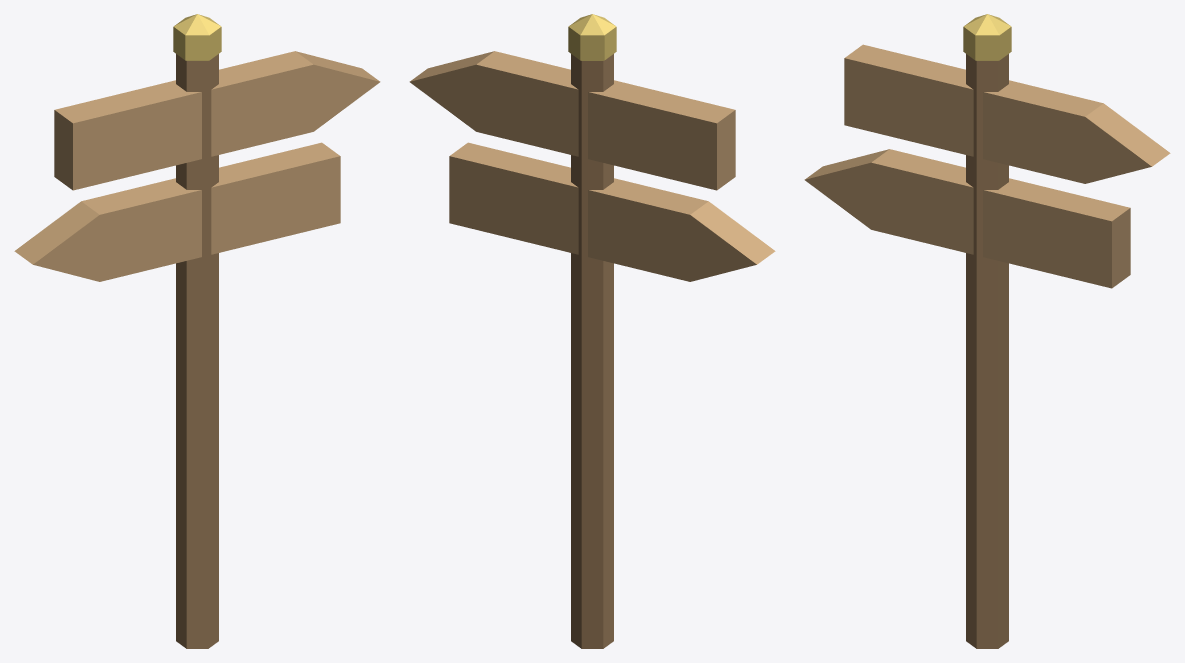
File: signpost.glb
3 renders of one model, left to right at view 1: azimuth 30°, elevation 25°; view 2: azimuth 150°, elevation 25°; view 3: azimuth 330°, elevation 25°, orthographic.
Visible parts, largest first — view 1: Player; view 2: Player; view 3: Player.
Boxes of the visible parts, left/top/right/bottom form: Player: left=14, top=14, right=380, bottom=648; Player: left=409, top=14, right=775, bottom=648; Player: left=804, top=14, right=1170, bottom=648.
Bounding box in the file's own units: 1.3 × 2.24 × 0.1559.
